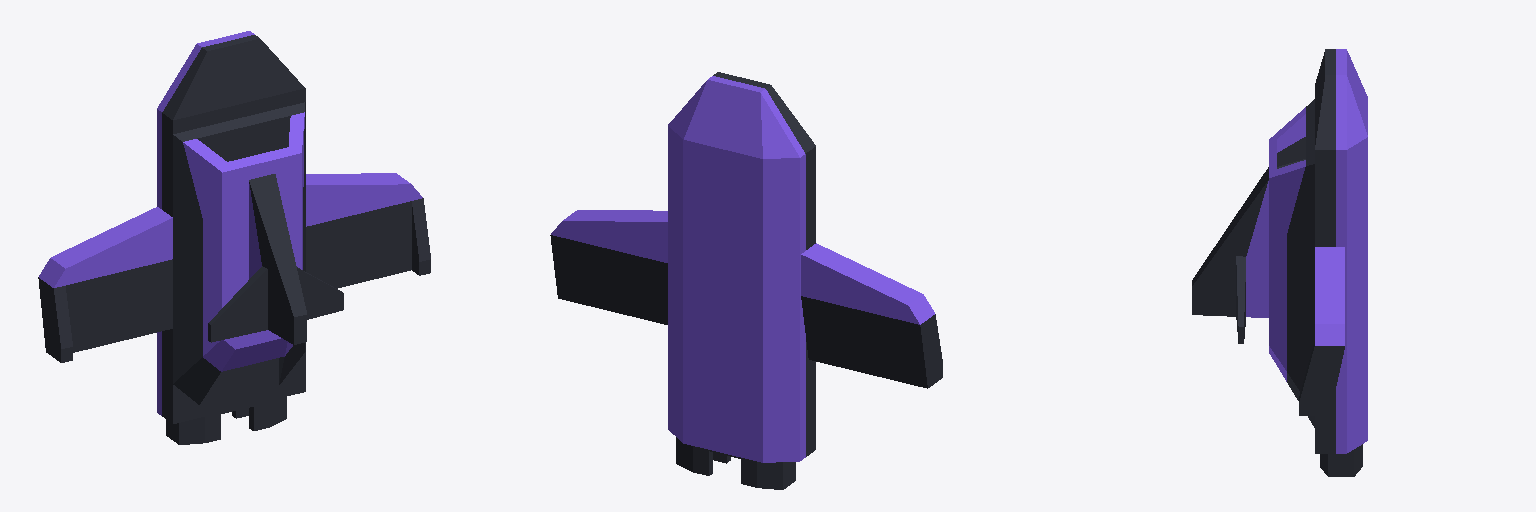
3 views of the same model, side by side, from view 1: azimuth 30°, elevation 25°; view 2: azimuth 150°, elevation 25°; view 3: azimuth 270°, elevation 25° (orthographic).
Parts seen in each view (by area): view 1: mergedBlocks; view 2: mergedBlocks; view 3: mergedBlocks.
Part boxes in pixels (x1,y1,x2,y2): mergedBlocks: (38,31,430,444); mergedBlocks: (550,72,942,489); mergedBlocks: (1192,49,1367,476).
Size of the model in its own units: 2.79 by 2.8 by 1.15.
Materials: 1 (1 with a texture image).